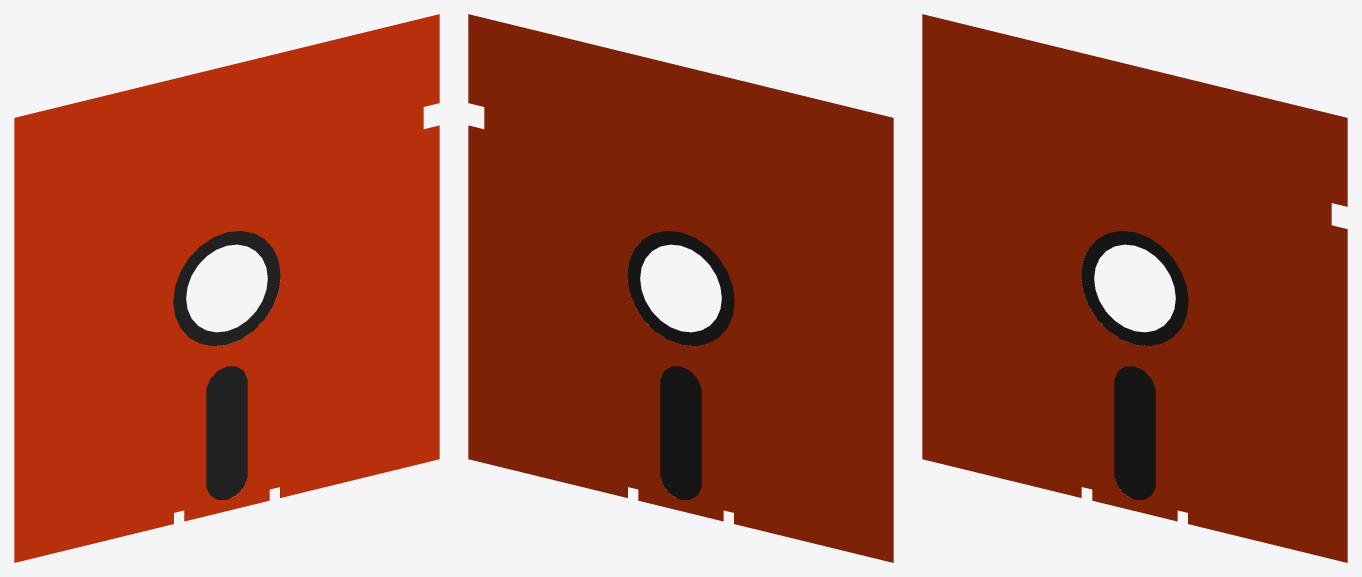
The model's file is medium-floppy-disk.glb.
3 renders of one model, left to right at view 1: azimuth 30°, elevation 25°; view 2: azimuth 150°, elevation 25°; view 3: azimuth 330°, elevation 25°, orthographic.
Visible parts, largest first — view 1: Plane, Plane.001; view 2: Plane, Plane.001; view 3: Plane, Plane.001.
Part boxes in pixels (left/top/right/bottom): Plane: left=14, top=14, right=439, bottom=562; Plane.001: left=173, top=230, right=280, bottom=499; Plane: left=468, top=14, right=893, bottom=562; Plane.001: left=627, top=230, right=734, bottom=499; Plane: left=922, top=14, right=1347, bottom=562; Plane.001: left=1081, top=230, right=1188, bottom=499.
Bounding box in the file's own units: 4 × 4 × 0.002.
